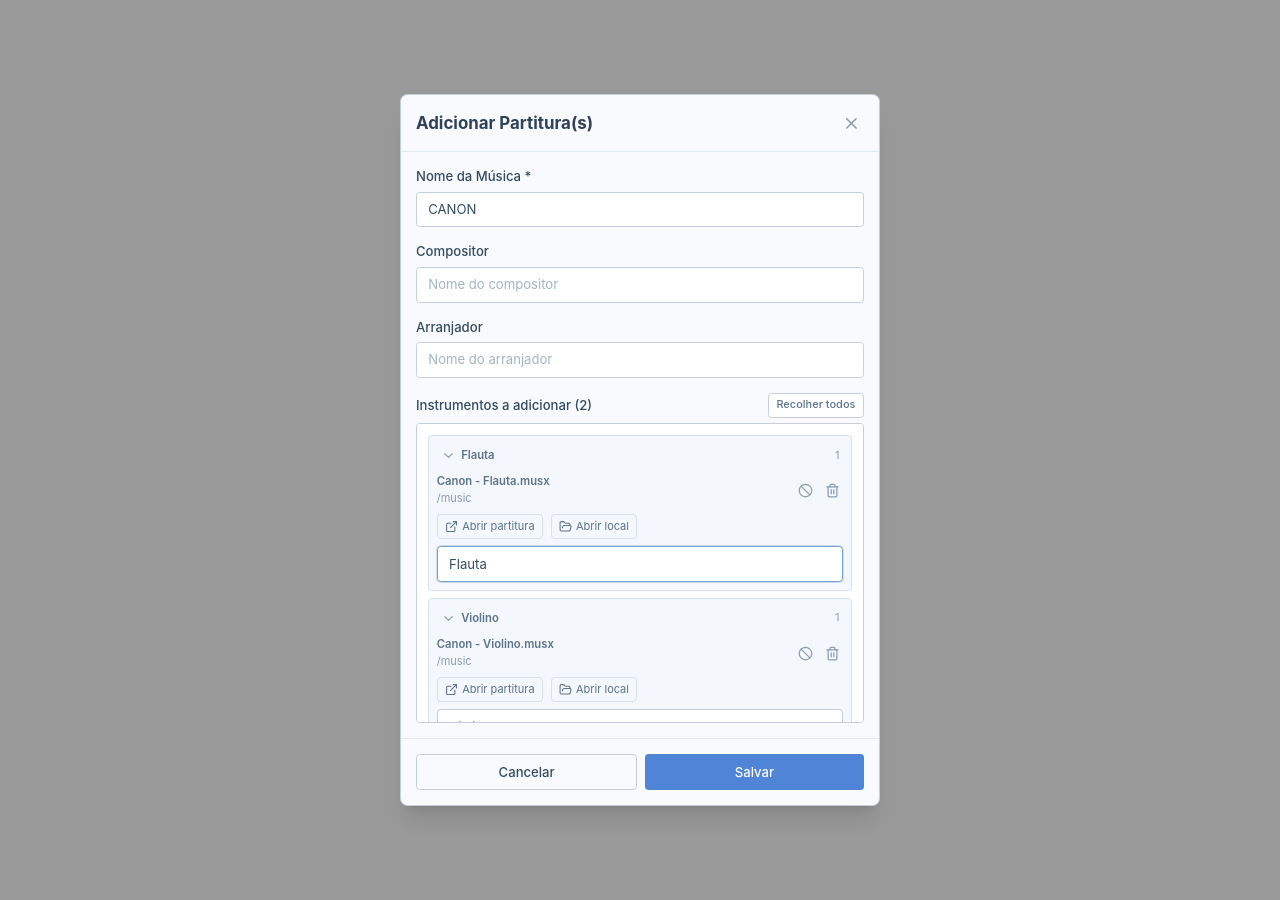
Test: AddFilesModal › should suggest composer and arranger names when typing
This screenshot has width=1280, height=900.
Type "Pac" into the field with placeholder "Nome do compositor" at (640, 285), box [416,267,864,303]
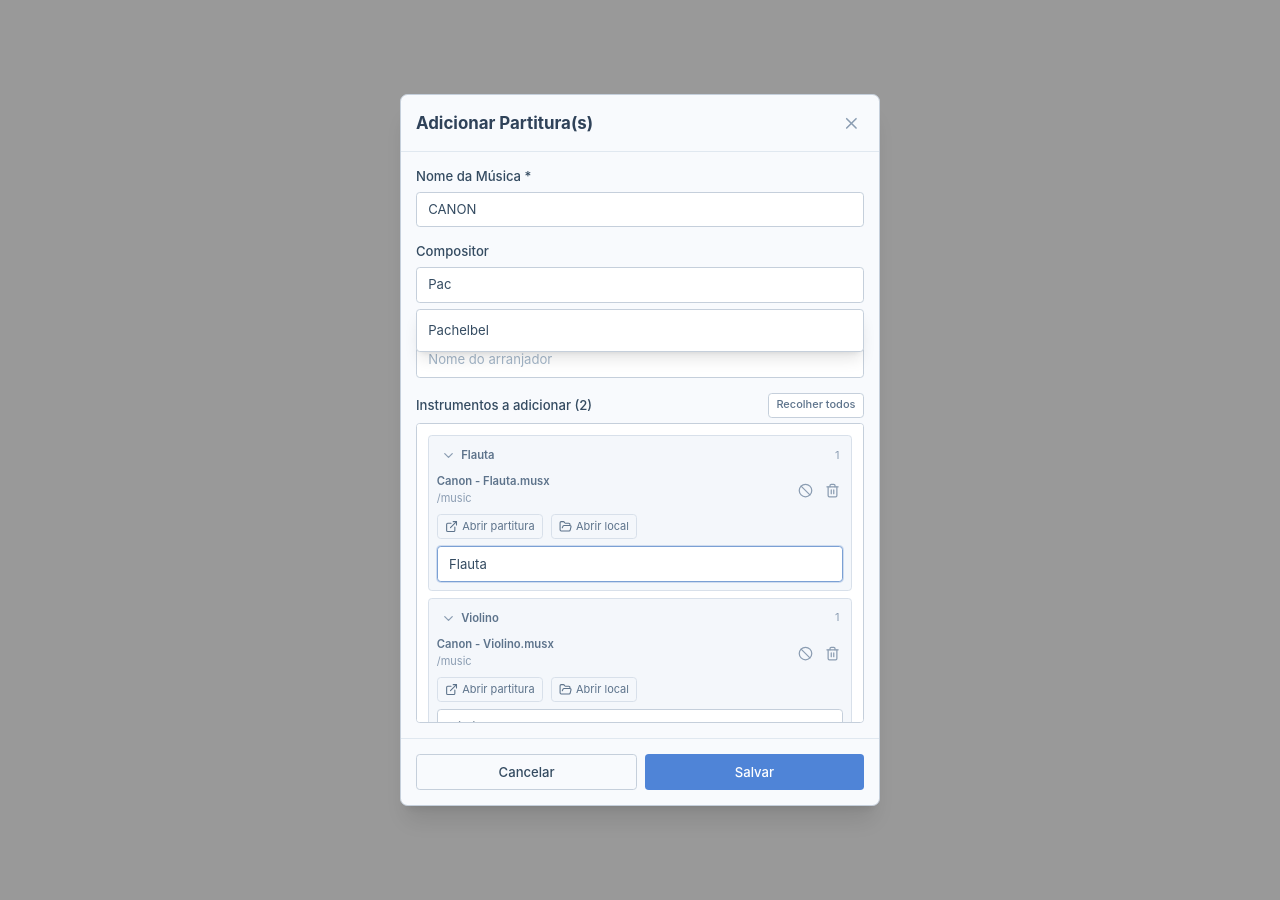
Check: the button "Pachelbel" is shown
Click the button "Pachelbel" at (459, 330), box [417,313,863,347]
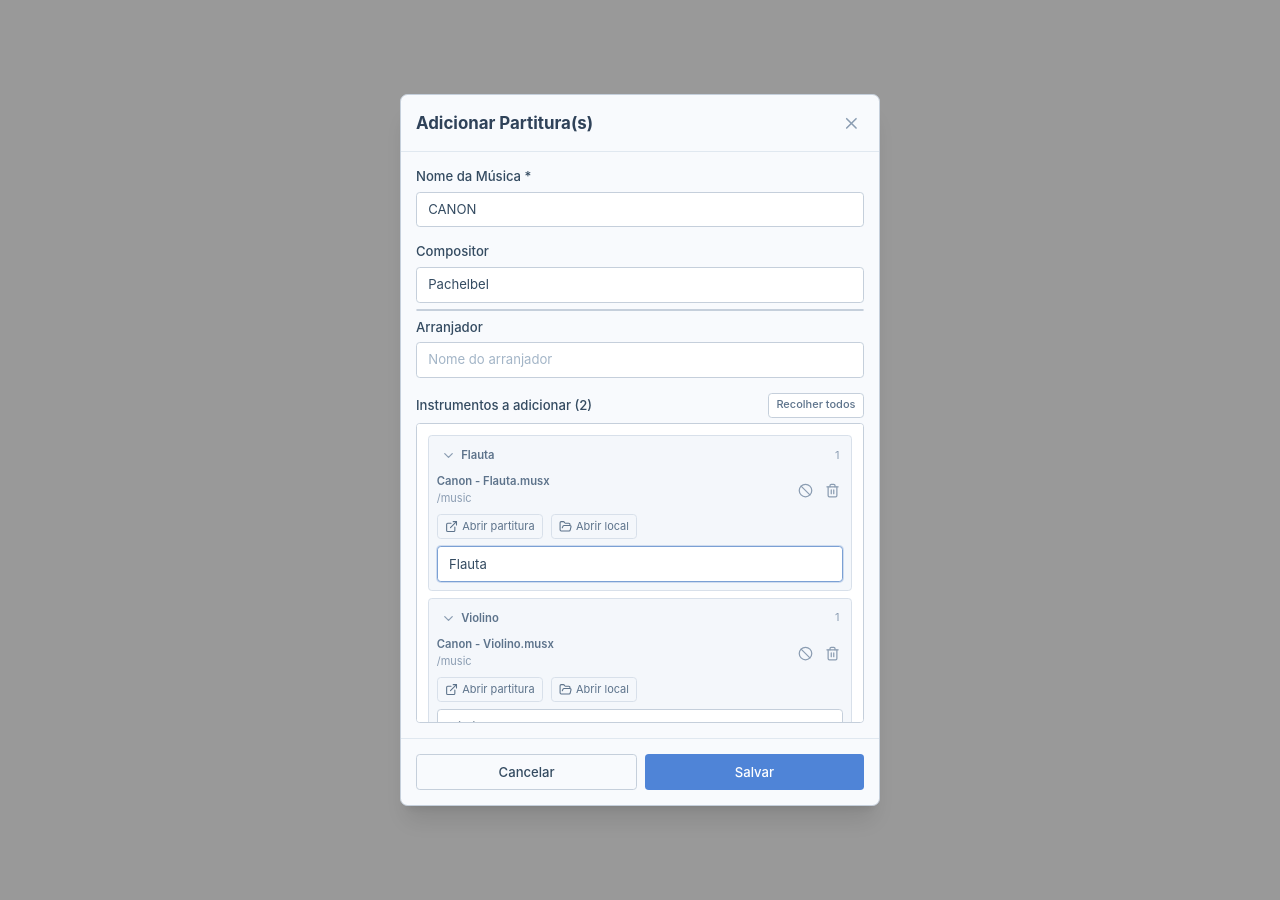
Check: the field with placeholder "Nome do compositor" below "Compositor" holds "Pachelbel", box [416,267,864,303]
Type "Glo" into the field with placeholder "Nome do arranjador" at (640, 360), box [416,342,864,378]
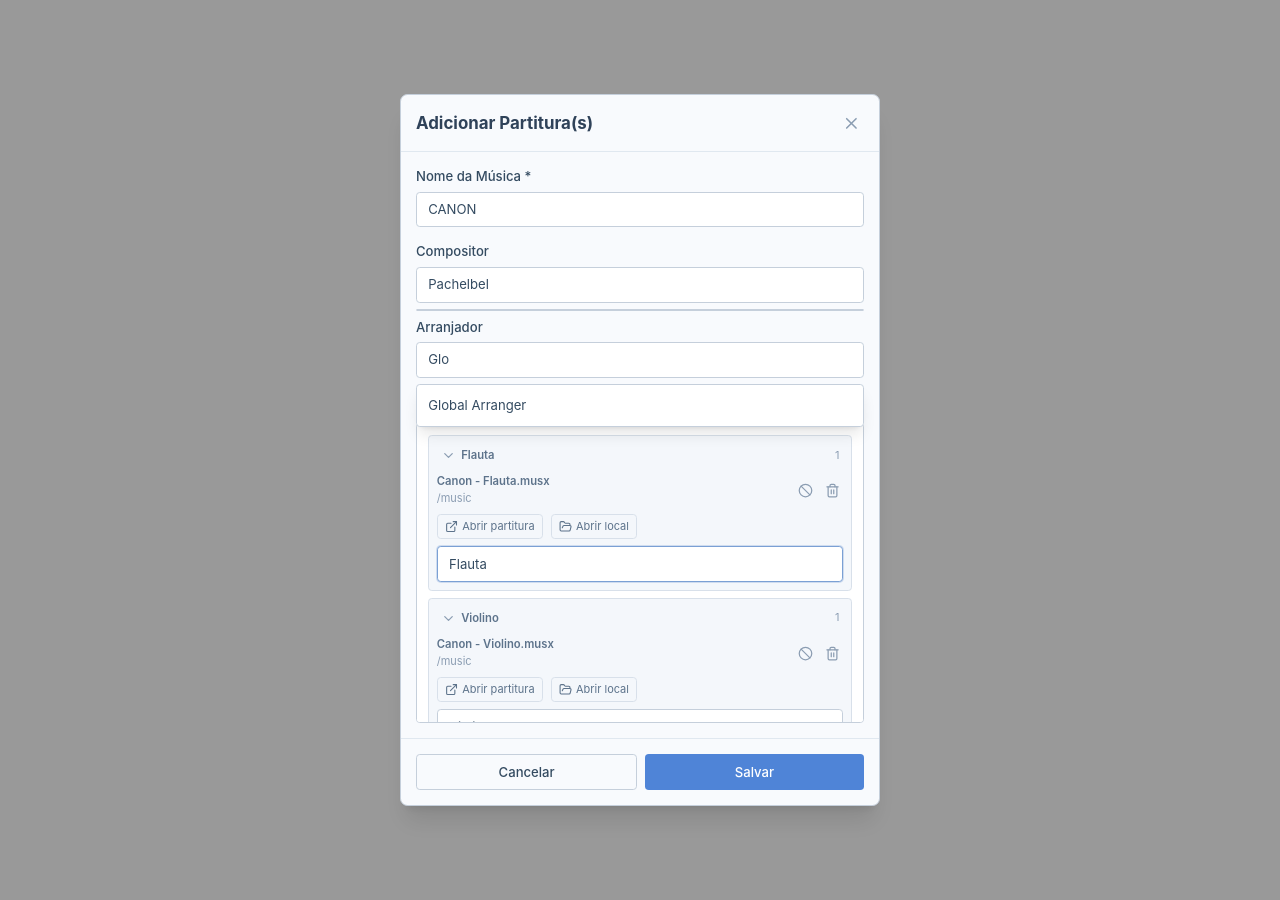
Check: the button "Global Arranger" is shown, box [417,388,863,422]
